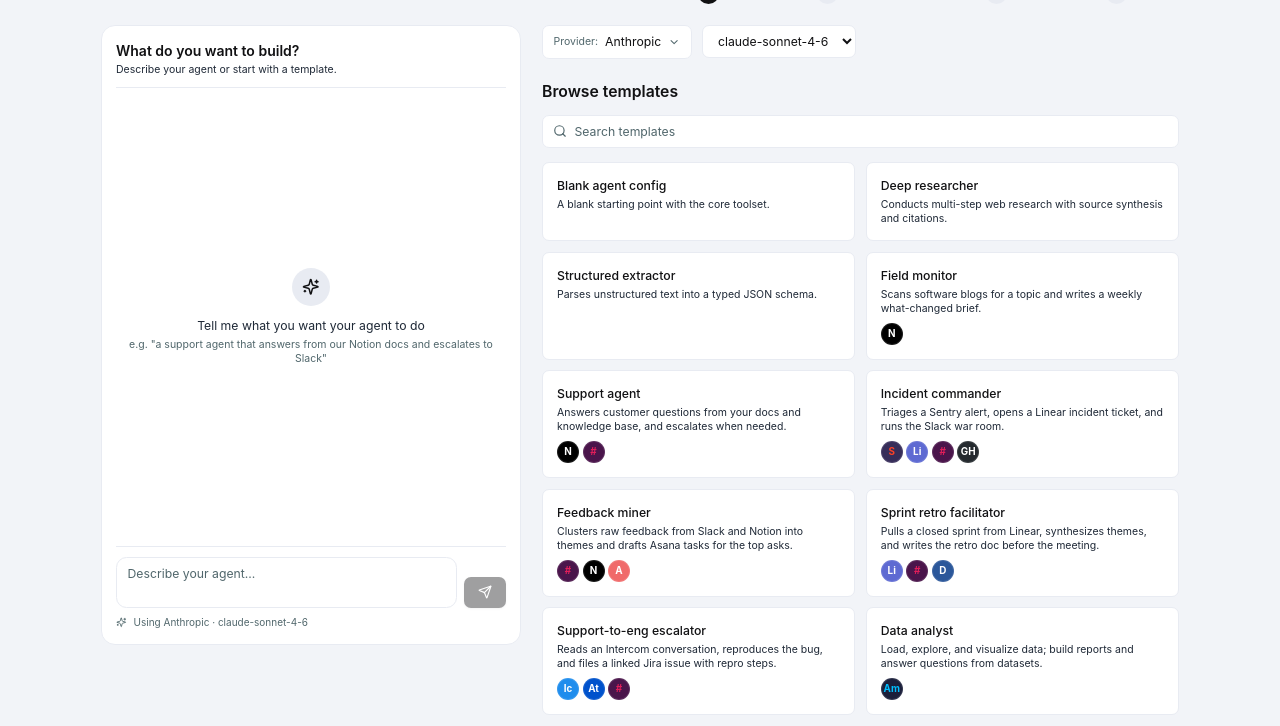
Test: QuickstartPage › sends a message through the agent-builder chat and renders the assistant reply
(page scrolled)
Type "I want a support agent" into the text box with placeholder "Describe your agent...".
click(286, 582); type("I want a support agent")  # box [116,557,457,608]
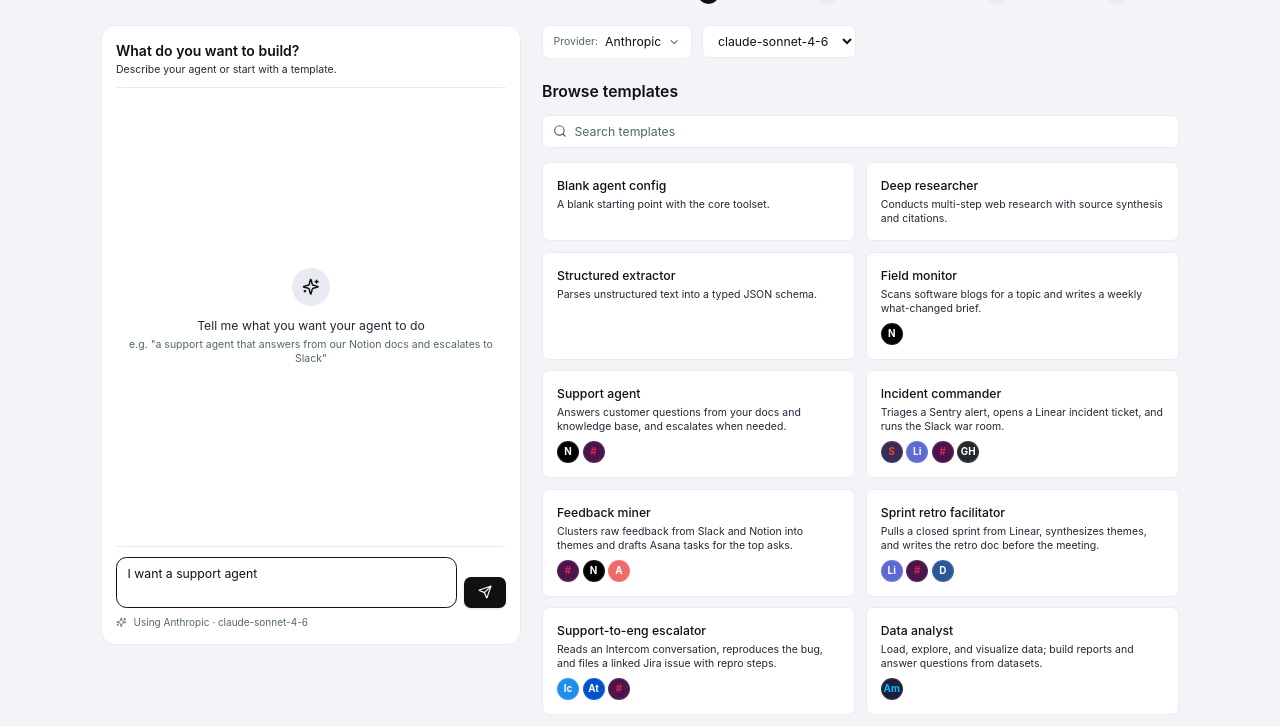
// Enter key submits (Shift+Enter inserts newline)
Press Enter
(page scrolled)
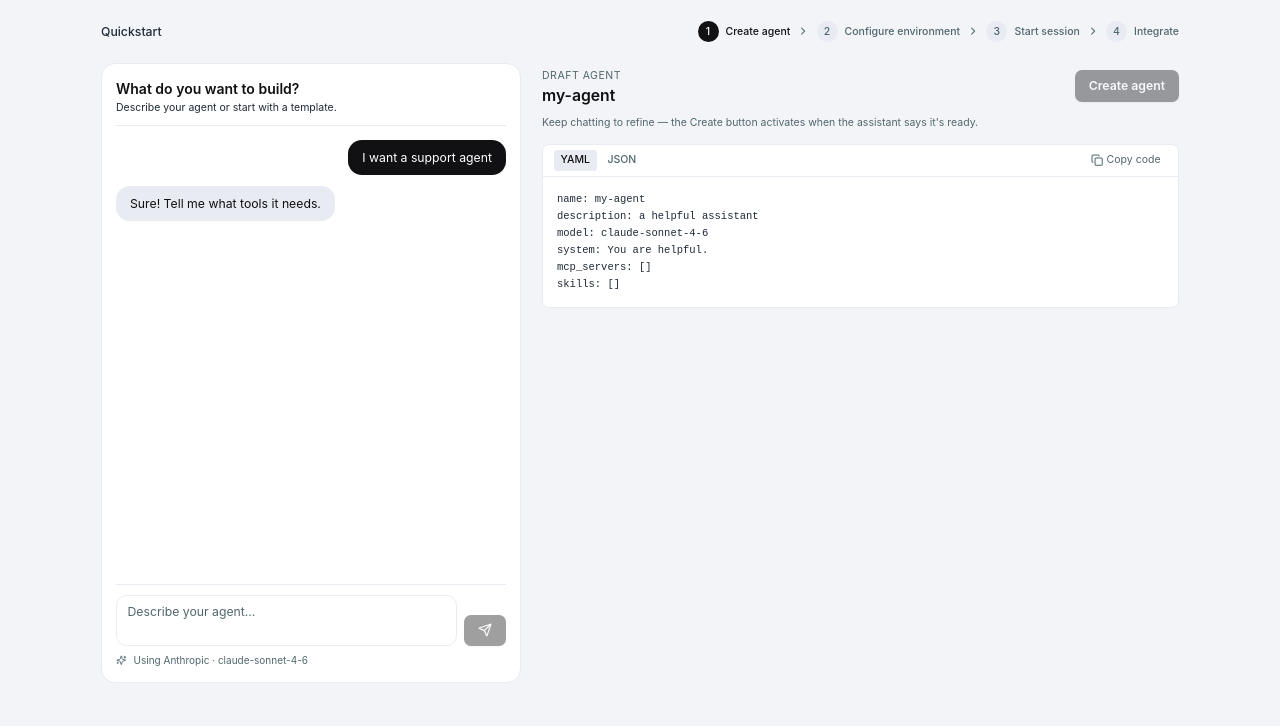
Now the text "Sure! Tell me what tools it needs." is shown, box [116,186,335,221]
